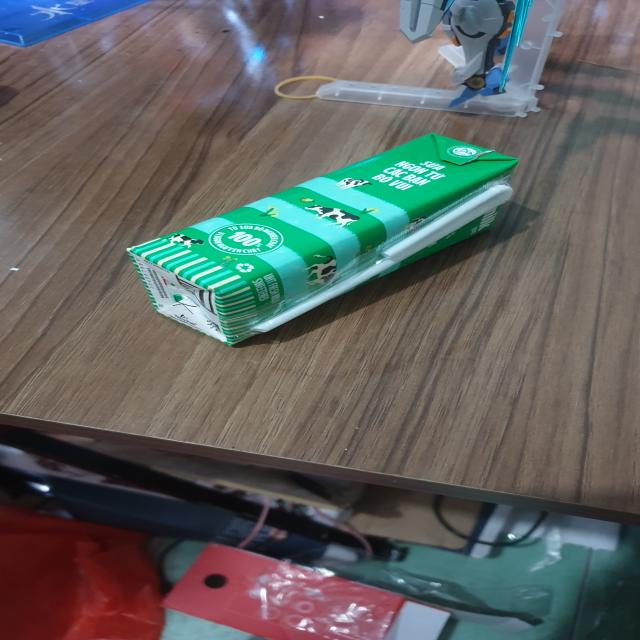Vina: (119, 128, 526, 345)
